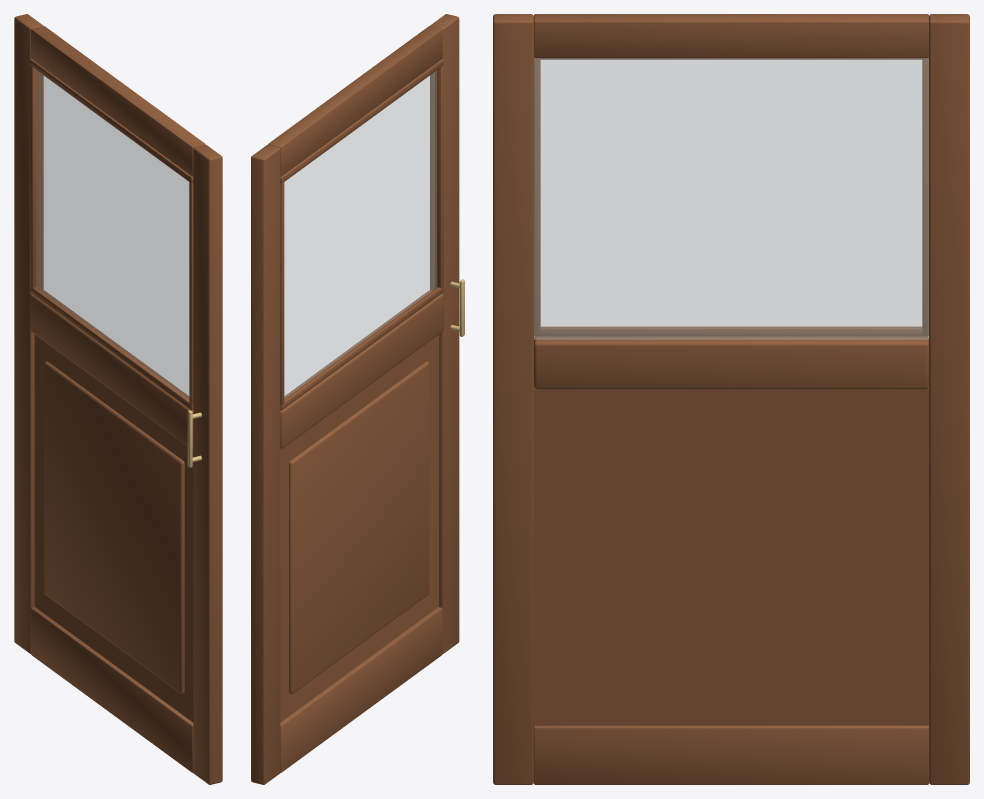
File: servant_door_b.glb
3 renders of one model, left to right at view 1: azimuth 30°, elevation 25°; view 2: azimuth 150°, elevation 25°; view 3: azimuth 270°, elevation 25°, orthographic. The views are drawn at different scales.
Parts seen in each view (by area): view 1: DoorB; view 2: DoorB; view 3: DoorB.
Part boxes in pixels (x1,y1,x2,y2): DoorB: [14, 14, 222, 784]; DoorB: [251, 14, 464, 784]; DoorB: [493, 14, 969, 784].
Bounding box in the file's own units: 0.064 × 1.45 × 0.82.
